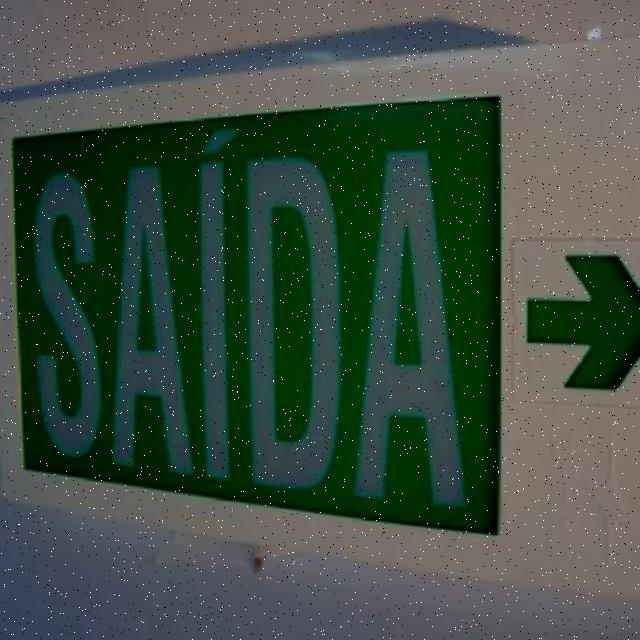emergency_exit: (10, 94, 504, 535)
